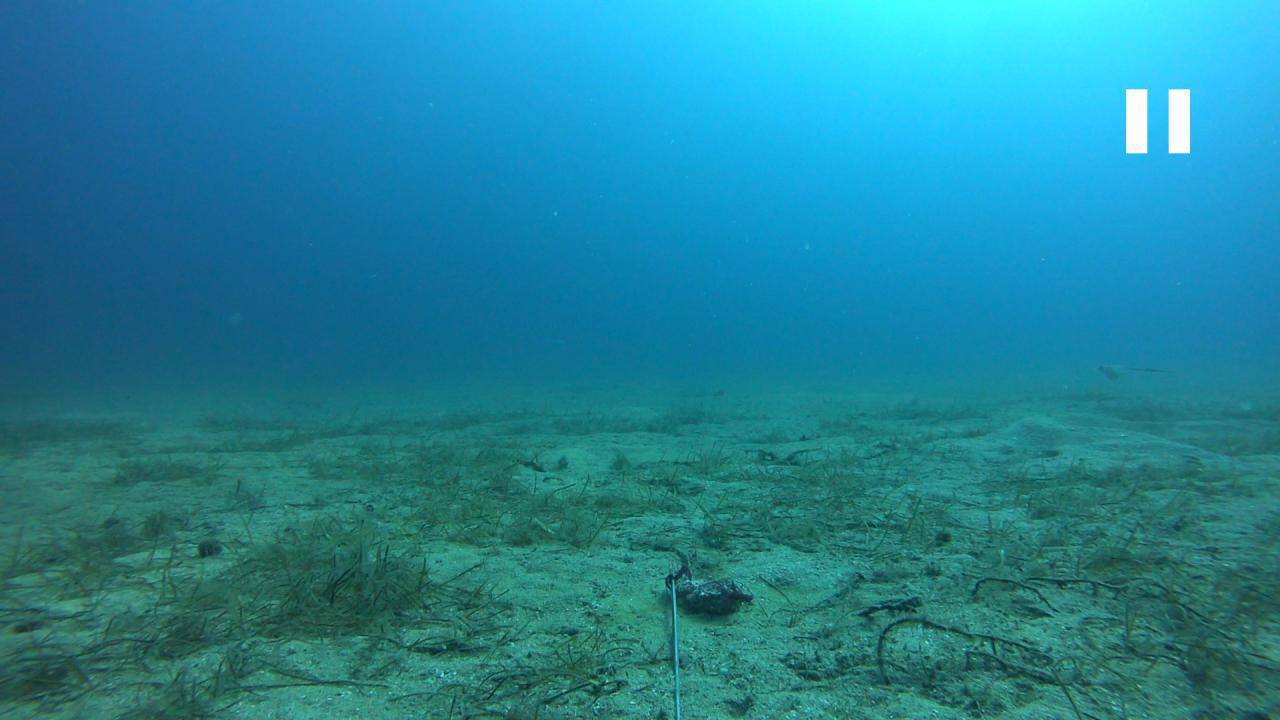dasyatis: (1094, 359, 1172, 381)
